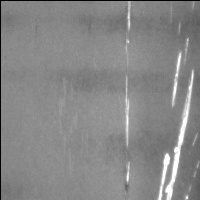scratches: (157, 53, 196, 200), (119, 1, 137, 188)
